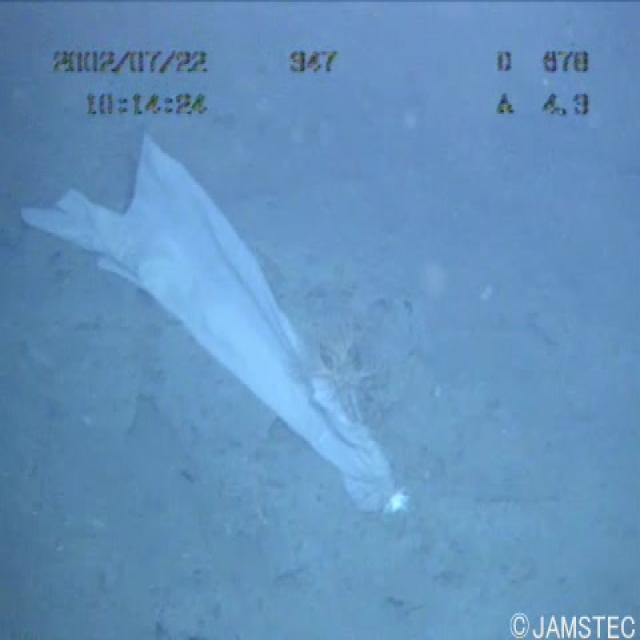plastic: (4, 117, 409, 523)
